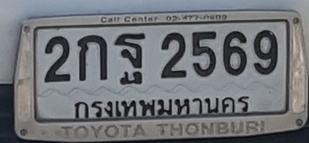num2: (42, 35, 72, 85)
txt01: (76, 34, 109, 83)
txt12: (112, 31, 147, 87)
